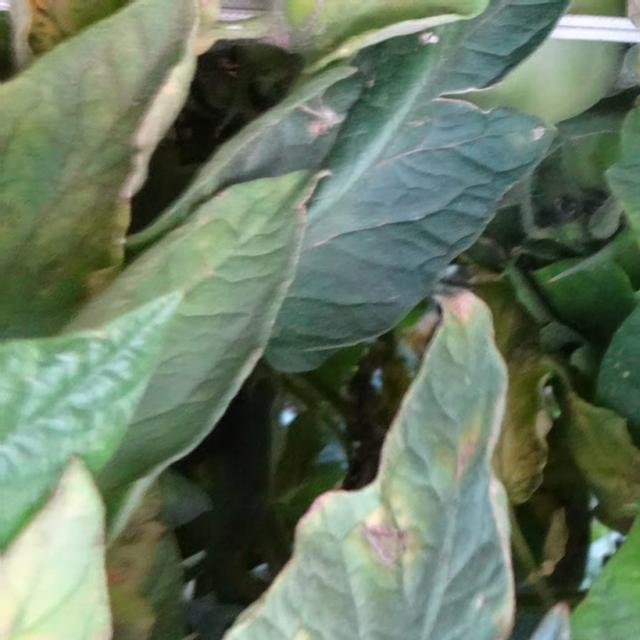Tomato leaf late blight: (155, 269, 566, 640), (597, 63, 640, 357)
